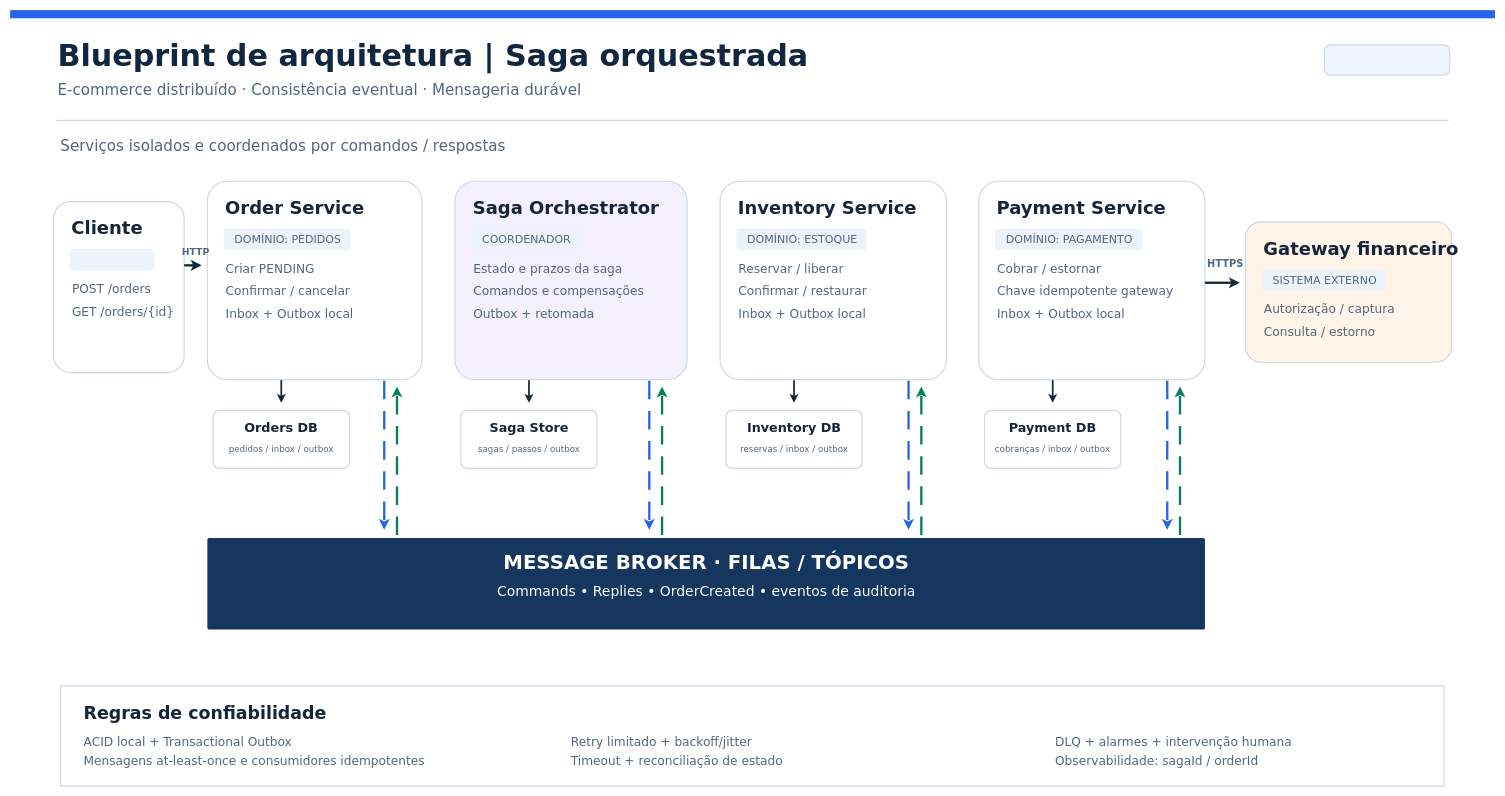
Image size: 1505x796. Some labels were removed from this diagram. Here are the shapes that lost their labels. From the top down, the box of each, then its label:
(1324, 44, 1450, 75): VISÃO GERAL
(70, 249, 154, 270): FRONT-END
